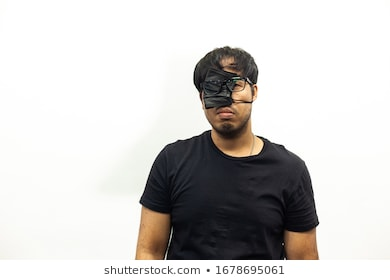mask_weared_incorrect: (204, 71, 253, 135)
